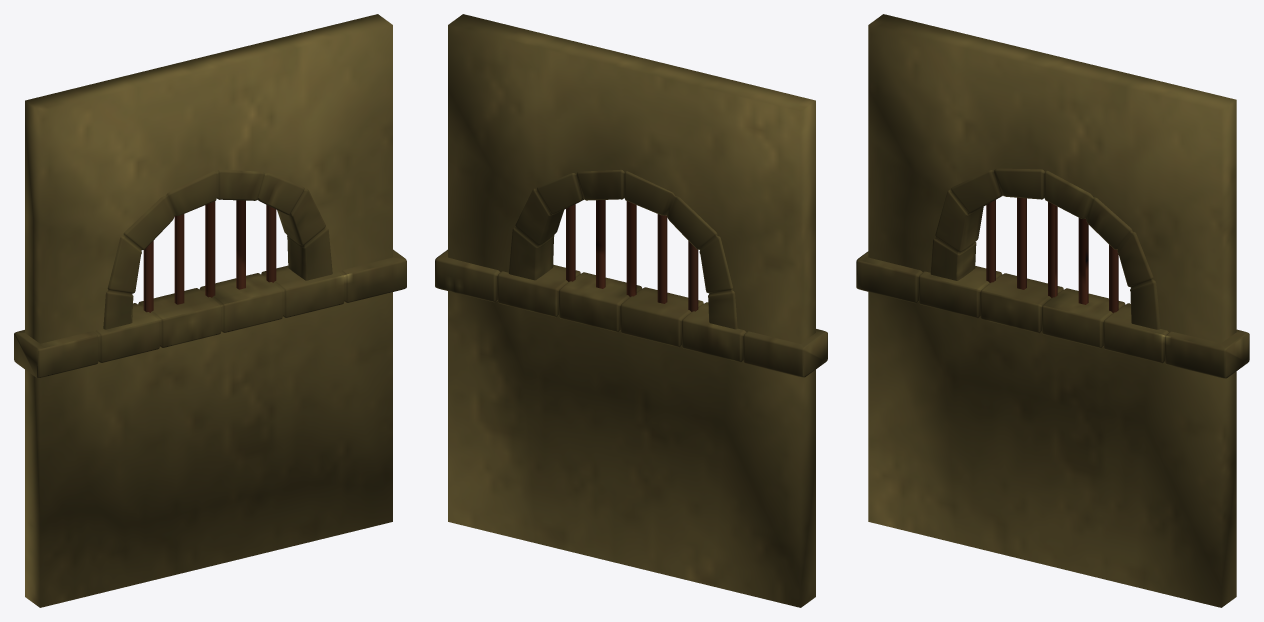
The model's file is Wall_8.fbx.
The picture shows the model from 3 angles, left to right: view 1: azimuth 30°, elevation 25°; view 2: azimuth 150°, elevation 25°; view 3: azimuth 330°, elevation 25°; orthographic projection.
Parts seen in each view (by area): view 1: Wall_8; view 2: Wall_8; view 3: Wall_8.
Boxes of the visible parts, box(x1,y1,x2,y2) form: Wall_8: box(14, 14, 406, 607); Wall_8: box(435, 14, 827, 607); Wall_8: box(856, 14, 1249, 607).
Bounding box in the file's own units: 643 × 828 × 74.99.
Materials: 2 (2 with a texture image).
